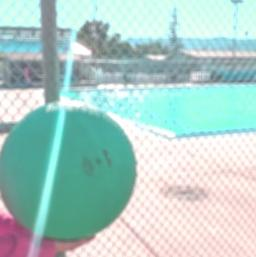algae: (0, 98, 140, 240)
